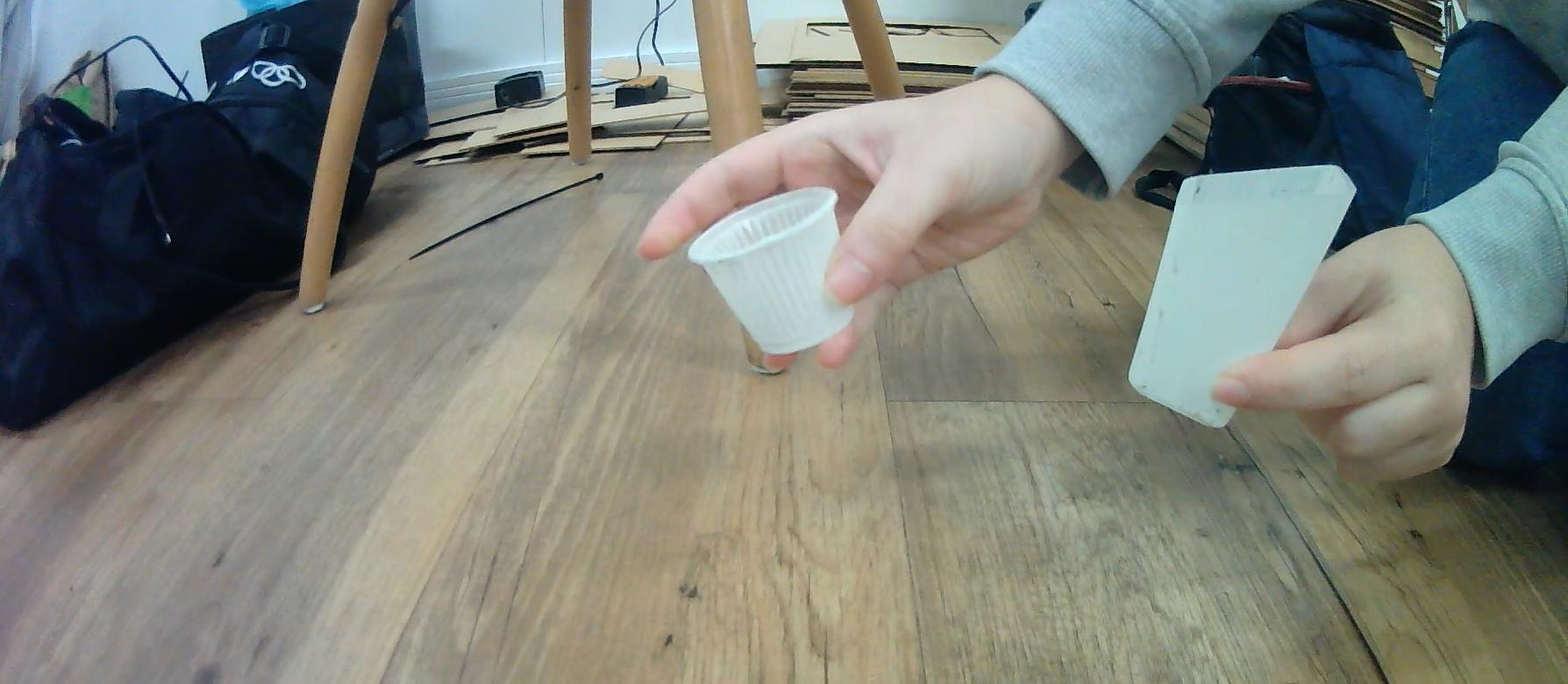erva_daninha: (1125, 163, 1357, 430)
planta: (687, 187, 857, 357)
